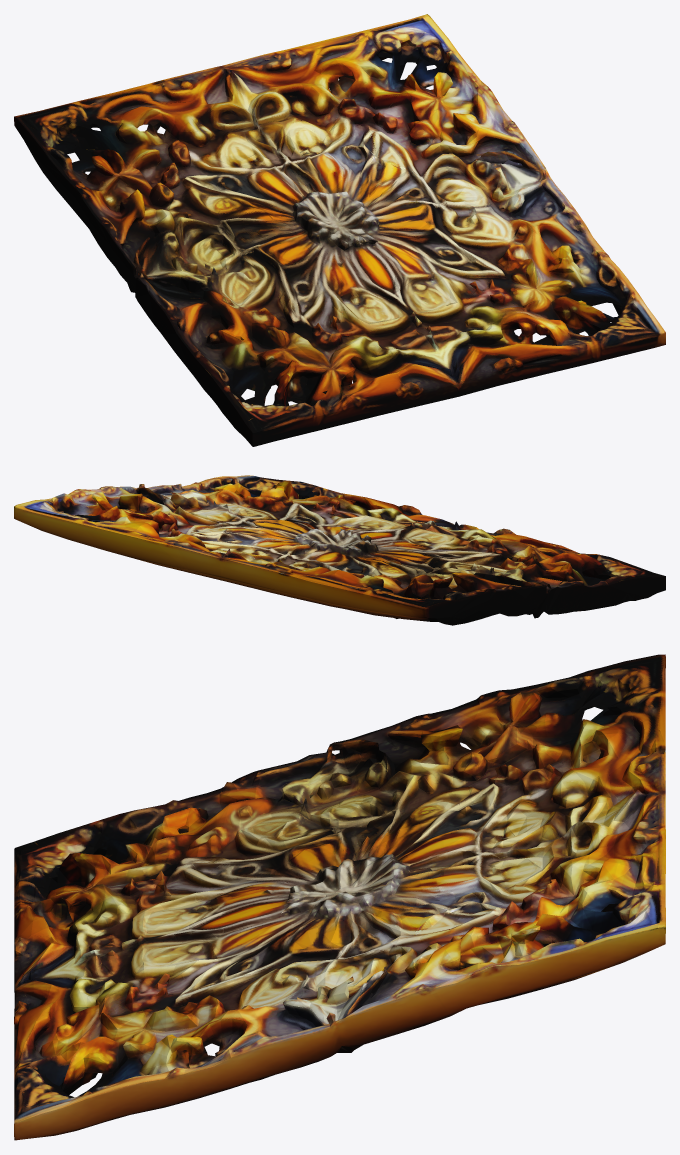
Rendered from ceramic-tile-3d.jpeg.glb.
3 renders of one model, top to bottom at view 1: azimuth 30°, elevation 25°; view 2: azimuth 150°, elevation 25°; view 3: azimuth 270°, elevation 25°, orthographic. The views are drawn at different scales.
Visible parts, largest first — view 1: world; view 2: world; view 3: world.
Boxes of the visible parts, box(x1,y1,x2,y2) form: world: box(14, 14, 665, 446); world: box(14, 475, 665, 625); world: box(14, 654, 665, 1140).
Size of the model in its own units: 1 by 0.3682 by 1.
Materials: 1 (1 with a texture image).
